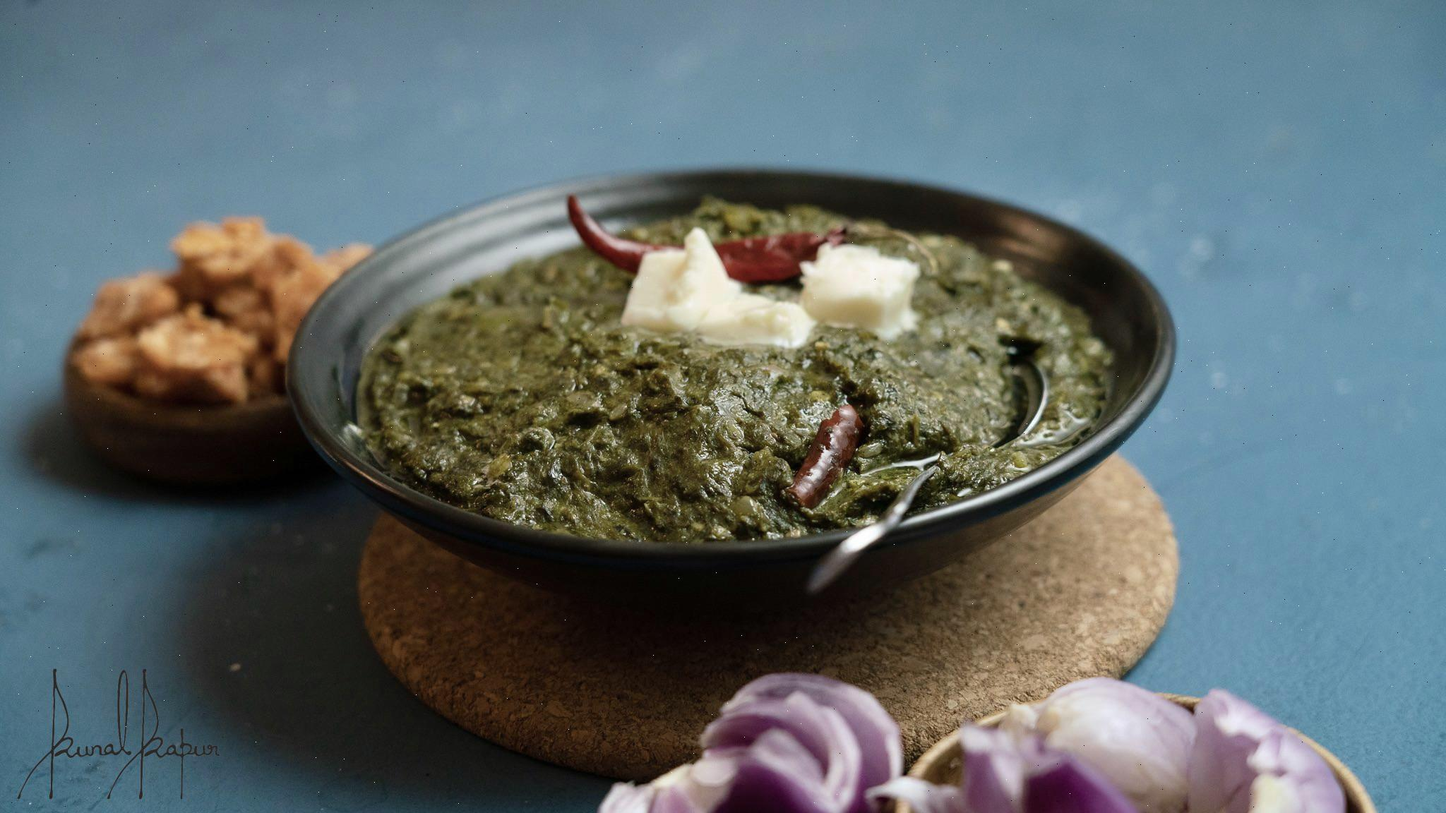saag: (353, 201, 1121, 548)
